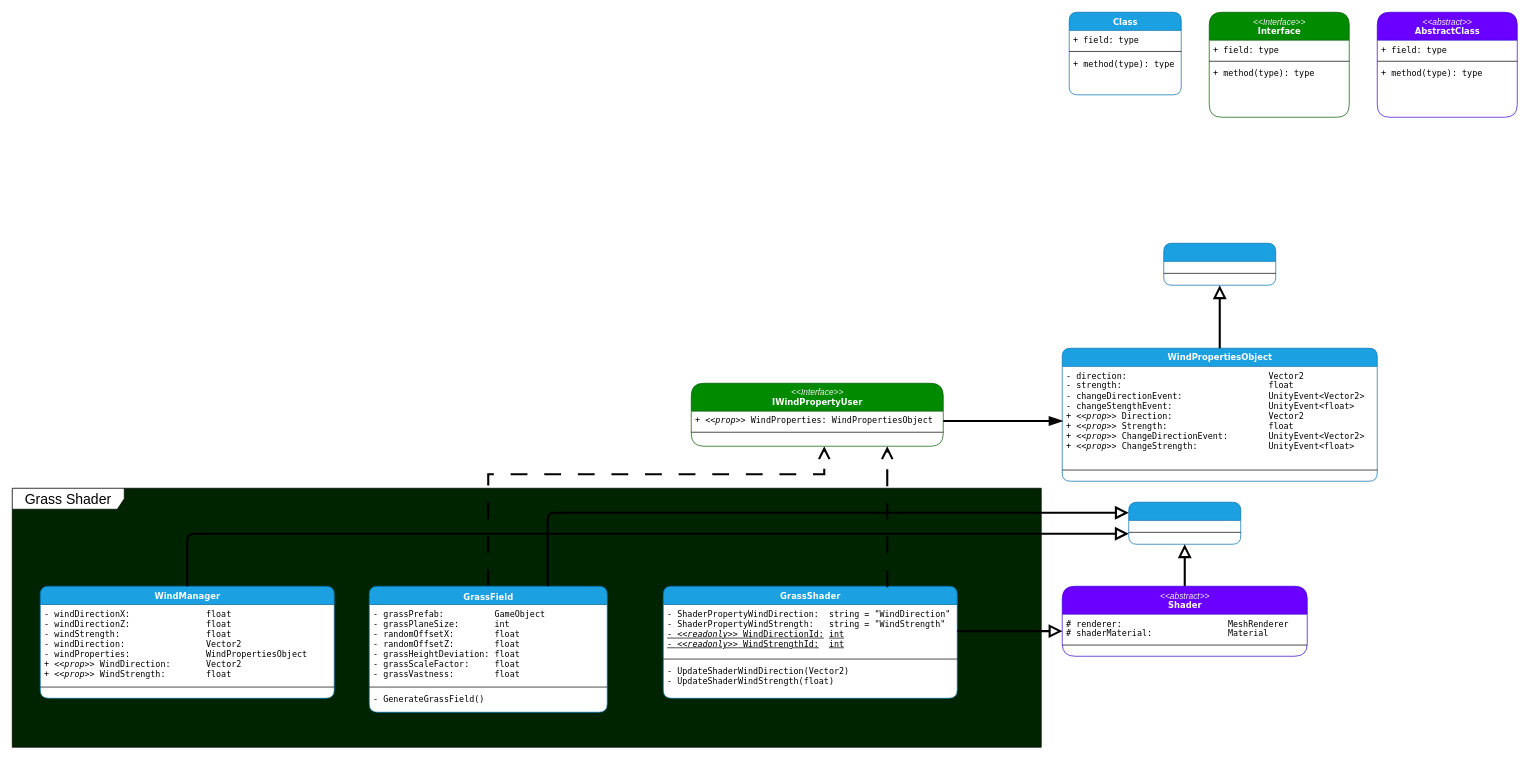
Image size: 1530x760. Some labels were removed from this diagram. Here are the shapes that lost their labels. From the top down, the centre of each, then its label:
At (1219,264): "ScriptableSingleton".
At (1184,523): "MonoBehaviour".
